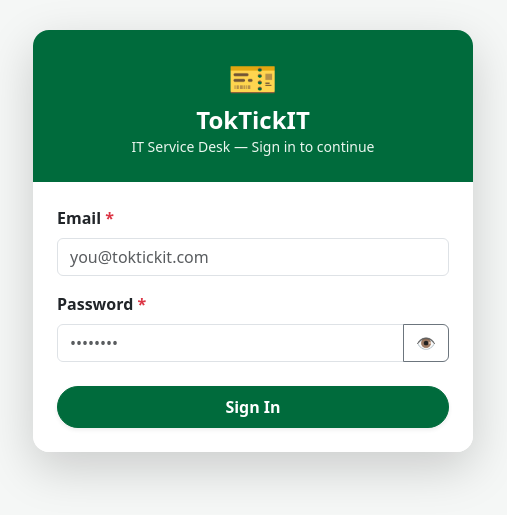
Test: Auth-01: Login Screen › Auth-01c: invalid email format shows email validation error
In the field with test id "login-email": (253, 257) [57,238,449,276], type "not-an-email"
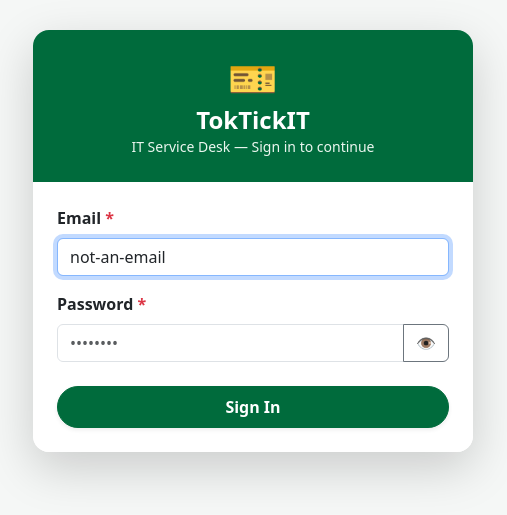
In the password field with test id "login-password": (230, 343) [57,324,404,362], type "Password123!"
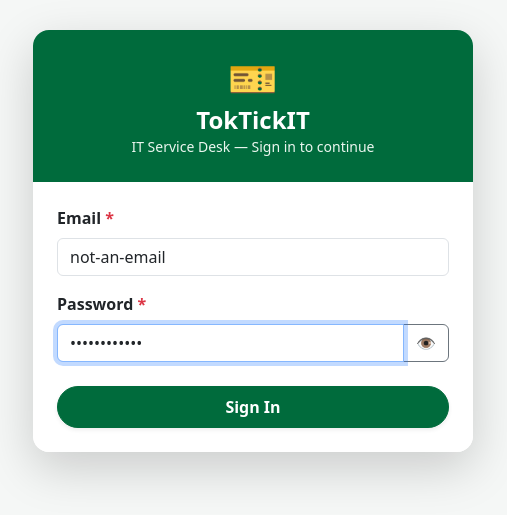
Click the button with test id "login-submit": click(253, 407) [57,386,449,428]
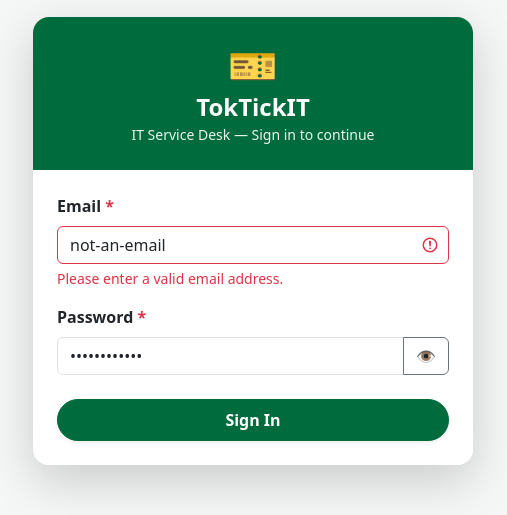
Now the text "Please enter a valid email address." is shown, box [57,269,283,288]
